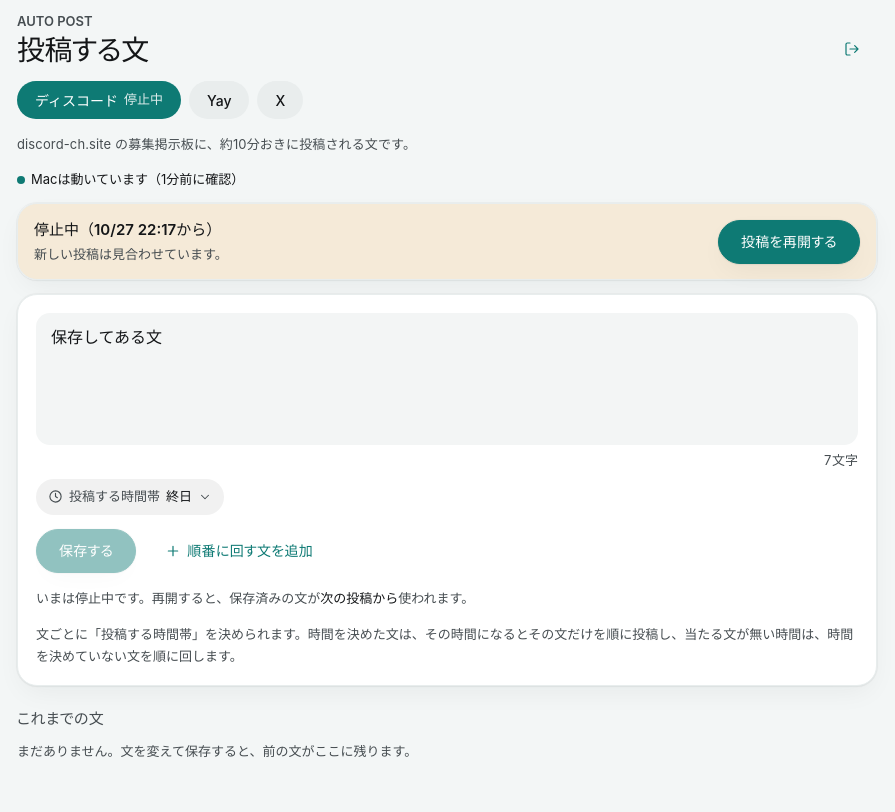
it: AutoPostView › 投稿を止める／再開する › Mac が「止まっています」と報告したら「停止中」になり、再開できる
The image size is (895, 812).
Expected: the text "停止中（10/27 22:17から）" is shown, [34, 220, 221, 239]
Expected: the text "いまは停止中です。再開すると" is shown, [36, 590, 320, 606]
Click the button "投稿を再開する".
click(789, 242)  # box [718, 220, 860, 264]
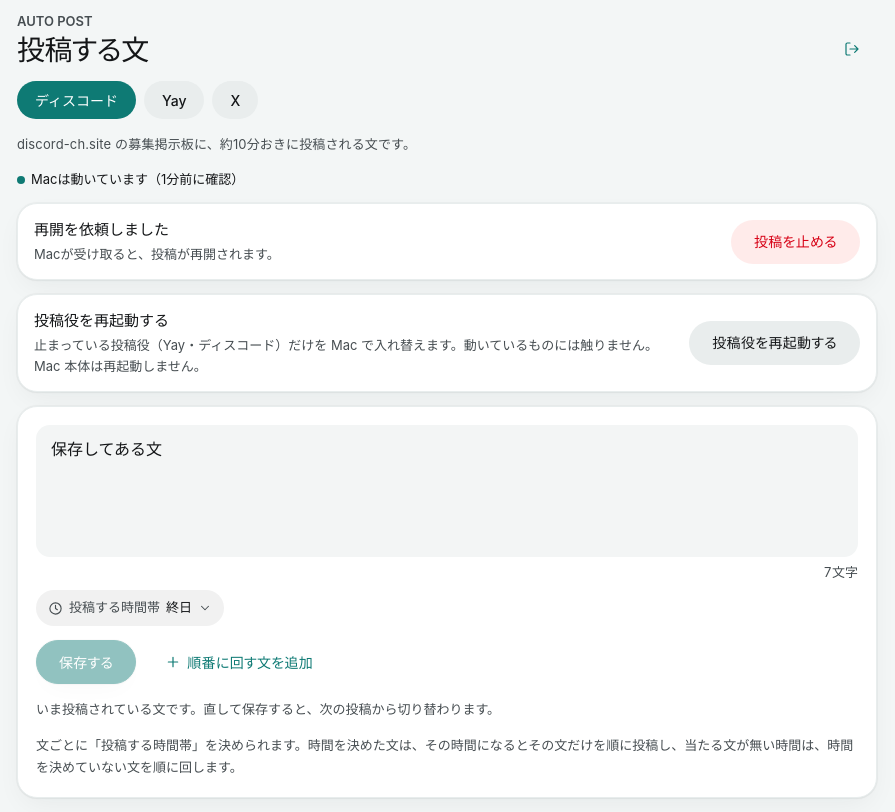
Expected: the text "再開を依頼しました" is shown, [34, 220, 169, 239]
